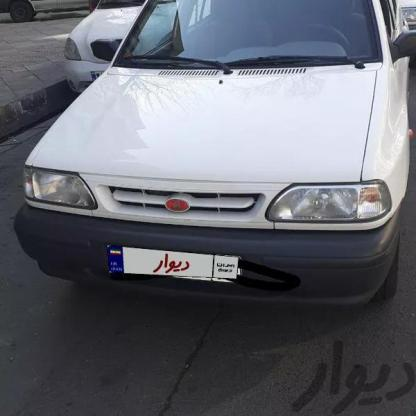Car: (15, 0, 415, 284), (36, 0, 183, 98), (0, 0, 93, 25)
